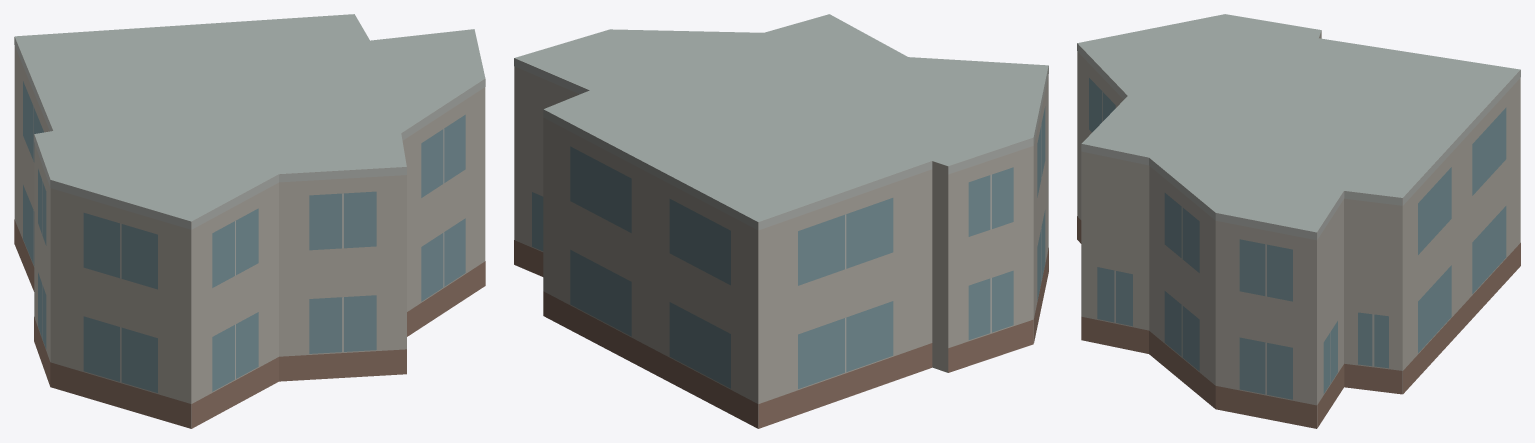
File: survey-upis-32970251.glb
The picture shows the model from 3 angles, left to right: view 1: azimuth 30°, elevation 25°; view 2: azimuth 150°, elevation 25°; view 3: azimuth 270°, elevation 25°; orthographic projection. The views are drawn at different scales.
Parts seen in each view (by area): view 1: survey-upis-32970251.tmp; view 2: survey-upis-32970251.tmp; view 3: survey-upis-32970251.tmp.
Part boxes in pixels (bbox=[...]): survey-upis-32970251.tmp: bbox=[14, 14, 485, 428]; survey-upis-32970251.tmp: bbox=[514, 14, 1048, 428]; survey-upis-32970251.tmp: bbox=[1077, 14, 1520, 428].
Bounding box in the file's own units: 14.56 × 6.1 × 12.5.
